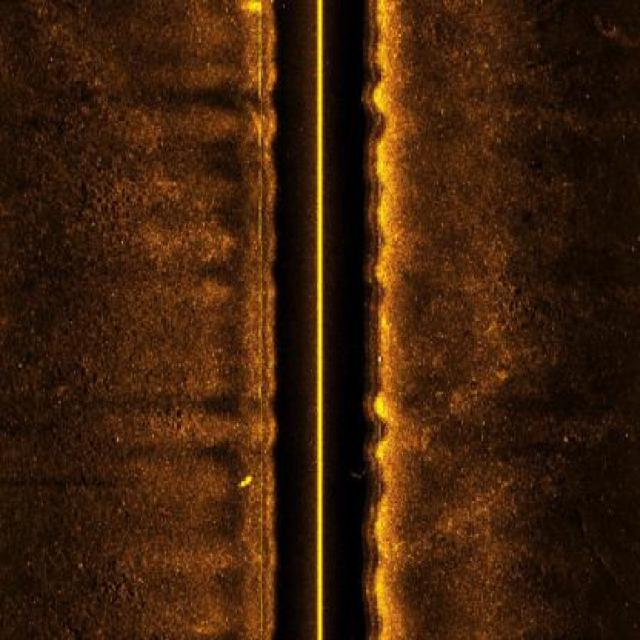mine: (230, 472, 264, 492)
